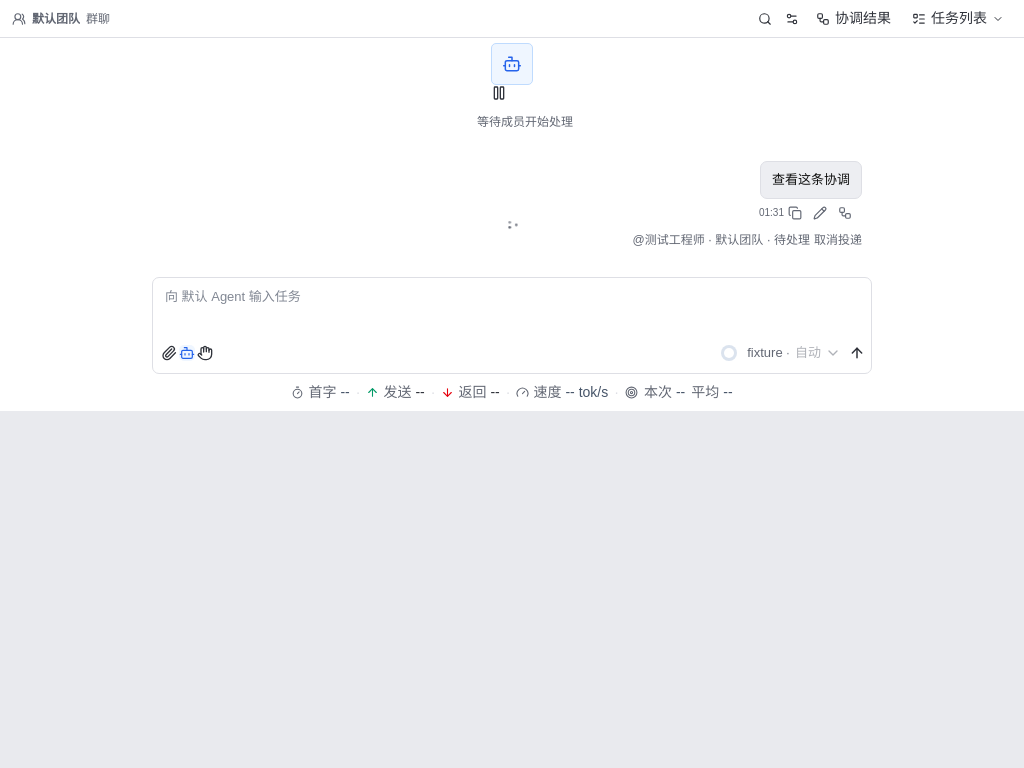
opens group coordination from its centered large avatar and original message without changing the composer
Later steps or results of the test are not shown.
Check: the element named "群聊协调 Agent" is shown, box [0, 38, 1023, 411]
Click the button named "查看后台协调" at (512, 64), box [491, 43, 533, 85]
Check: the element named "查看协调过程" is shown, box [756, 201, 862, 225]
Click the button named "查看协调过程" at (850, 213), box [838, 201, 862, 225]
Check: the header named "查看协调结果" is shown, box [0, 0, 1023, 38]
Click the button with aria-label "查看协调结果" at (854, 18), box [808, 4, 899, 33]
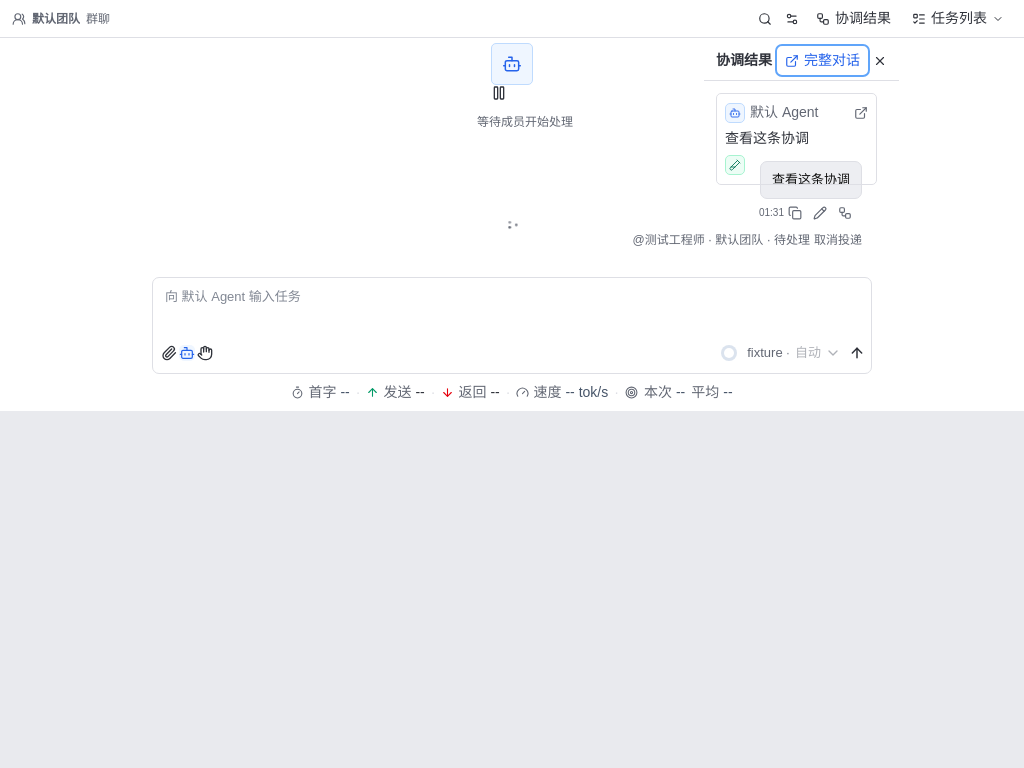
Check: the element named "协调结果" shows "查看这条协调", box [725, 130, 809, 146]
